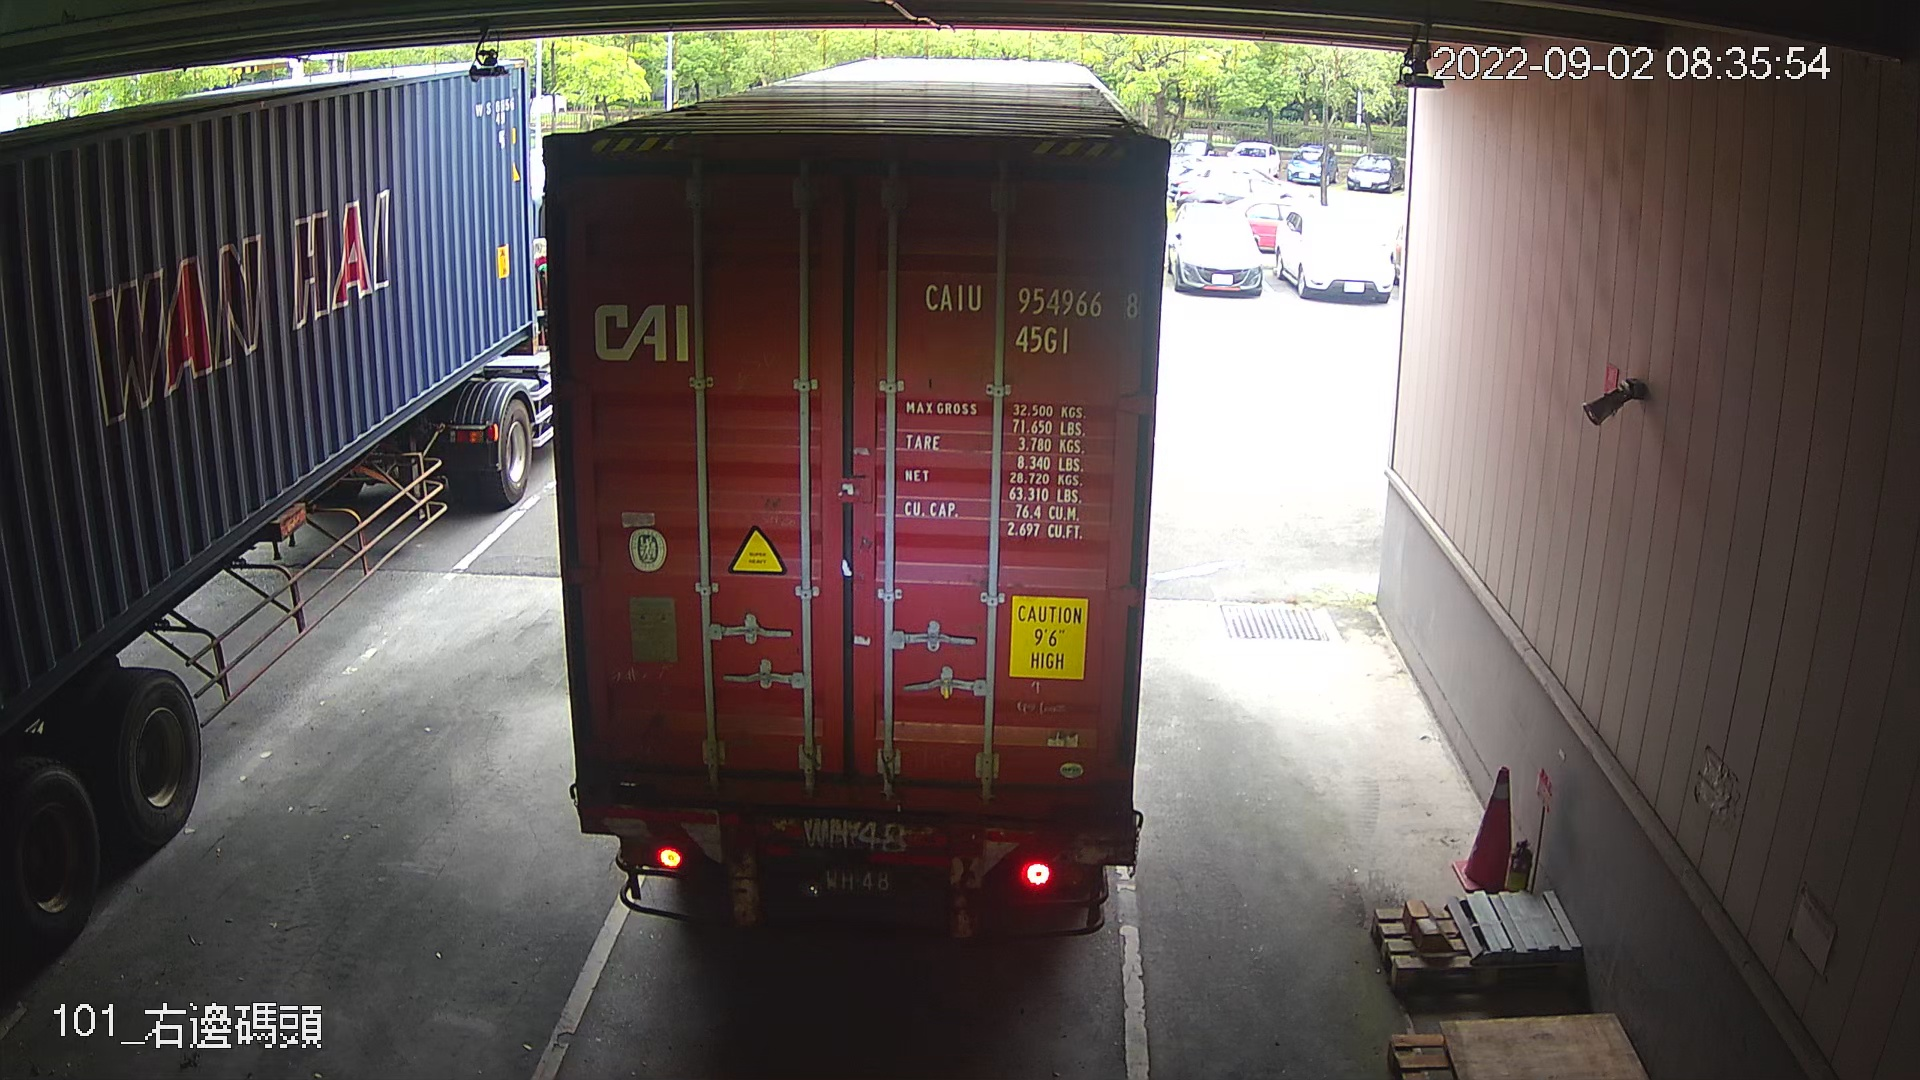container: (913, 272, 1145, 367)
